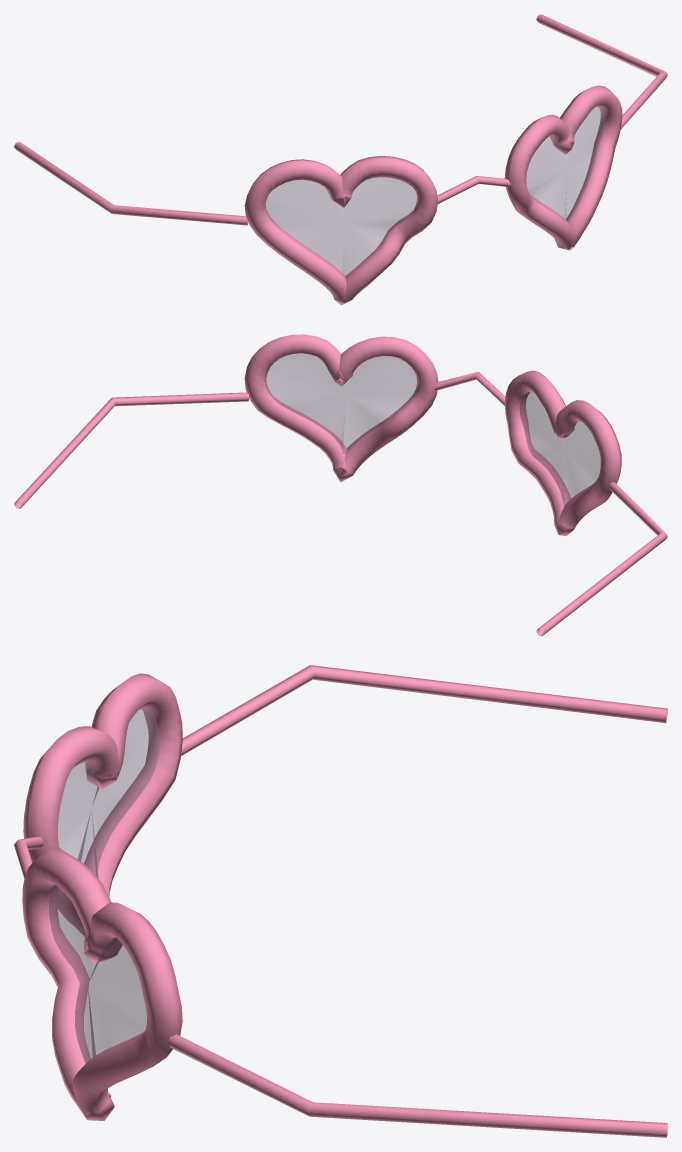
File: glasses_heart_penguin_tailored.glb
3 renders of one model, top to bottom at view 1: azimuth 30°, elevation 25°; view 2: azimuth 150°, elevation 25°; view 3: azimuth 270°, elevation 25°, orthographic. The views are drawn at different scales.
Visible parts, largest first — view 1: Montura, Lente ahumada, Montura.001, Lente ahumada.001, Patilla curva, Patilla curva.001, Puente nasal; view 2: Montura.001, Lente ahumada.001, Montura, Lente ahumada, Patilla curva.001, Patilla curva, Puente nasal; view 3: Montura.001, Montura, Lente ahumada.001, Patilla curva.001, Patilla curva, Lente ahumada.
Boxes of the visible parts, box(x1,y1,x2,y2) form: Montura: box(244, 156, 438, 305); Lente ahumada: box(265, 177, 417, 275); Montura.001: box(504, 85, 622, 250); Lente ahumada.001: box(526, 107, 605, 220); Patilla curva: box(14, 142, 248, 225); Patilla curva.001: box(536, 14, 667, 128); Puente nasal: box(437, 176, 511, 203); Montura.001: box(244, 334, 438, 482); Lente ahumada.001: box(265, 353, 417, 454); Montura: box(504, 370, 621, 536); Lente ahumada: box(519, 392, 600, 508); Patilla curva.001: box(14, 392, 248, 508); Patilla curva: box(536, 482, 667, 636); Puente nasal: box(434, 371, 505, 405); Montura.001: box(22, 849, 182, 1120); Montura: box(23, 673, 182, 936); Lente ahumada.001: box(49, 885, 146, 1063); Patilla curva.001: box(168, 1034, 667, 1137); Patilla curva: box(181, 665, 667, 755); Lente ahumada: box(58, 709, 159, 878).
Bounding box in the file's own units: 0.7071 × 0.1776 × 0.4413.
